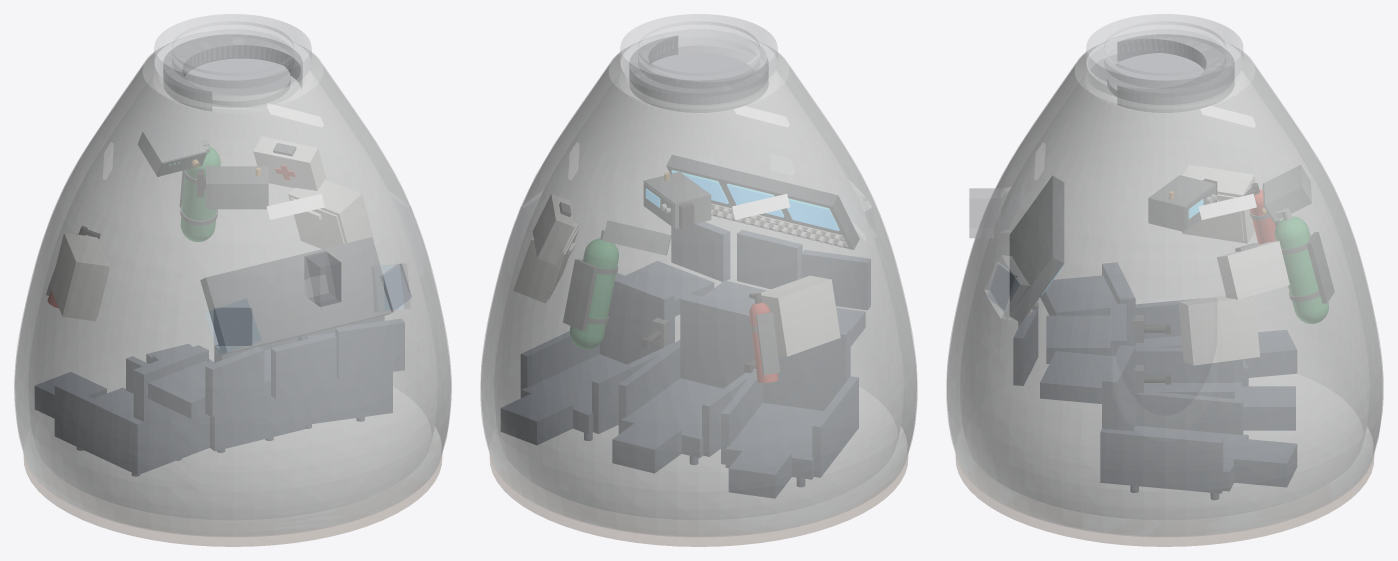
File: cmd04_soyuz_descent_combined.glb
3 views of the same model, side by side, from view 1: azimuth 30°, elevation 25°; view 2: azimuth 150°, elevation 25°; view 3: azimuth 270°, elevation 25° (orthographic).
Parts seen in each view (by area): view 1: ext_descent_hull, pressure_vessel, seat_1, main_panel, ext_hatch_ring, seat_2, stowage_lockers, seat_3, hatch_tunnel_1, ext_heat_shield, hatch_door_1, eq15_1_body (+8 smaller); view 2: pressure_vessel, ext_descent_hull, seat_2, seat_1, seat_3, ext_hatch_ring, stowage_lockers, hatch_tunnel_1, ext_heat_shield, main_panel, eq09_1_cylinder, hatch_door_1 (+9 smaller); view 3: pressure_vessel, ext_descent_hull, seat_3, ext_hatch_ring, seat_2, stowage_lockers, seat_1, hatch_tunnel_1, main_panel, ext_heat_shield, eq14_1_case, hatch_door_1 (+8 smaller).
Part boxes in pixels (left/top/right/bottom): ext_descent_hull: left=14, top=33, right=451, bottom=537; pressure_vessel: left=15, top=38, right=450, bottom=535; seat_1: left=35, top=345, right=263, bottom=476; main_panel: left=200, top=237, right=393, bottom=354; ext_hatch_ring: left=154, top=14, right=311, bottom=95; seat_2: left=146, top=333, right=336, bottom=452; stowage_lockers: left=50, top=180, right=374, bottom=320; seat_3: left=298, top=316, right=404, bottom=428; hatch_tunnel_1: left=163, top=34, right=302, bottom=111; ext_heat_shield: left=24, top=455, right=441, bottom=546; hatch_door_1: left=185, top=58, right=290, bottom=107; eq15_1_body: left=206, top=166, right=268, bottom=208; pressure_vessel: left=481, top=38, right=916, bottom=535; ext_descent_hull: left=480, top=33, right=917, bottom=537; seat_2: left=612, top=230, right=802, bottom=472; seat_1: left=721, top=250, right=870, bottom=498; seat_3: left=501, top=222, right=729, bottom=444; ext_hatch_ring: left=620, top=14, right=777, bottom=95; stowage_lockers: left=513, top=222, right=840, bottom=356; hatch_tunnel_1: left=629, top=36, right=768, bottom=112; ext_heat_shield: left=490, top=455, right=907, bottom=546; main_panel: left=666, top=155, right=859, bottom=249; eq09_1_cylinder: left=570, top=238, right=618, bottom=349; hatch_door_1: left=651, top=53, right=754, bottom=82; pressure_vessel: left=947, top=38, right=1382, bottom=535; ext_descent_hull: left=946, top=33, right=1383, bottom=537; seat_3: left=1013, top=309, right=1296, bottom=499; ext_hatch_ring: left=1086, top=14, right=1242, bottom=95; seat_2: left=1018, top=304, right=1295, bottom=430; stowage_lockers: left=1178, top=165, right=1259, bottom=365; seat_1: left=1032, top=262, right=1296, bottom=385; hatch_tunnel_1: left=1117, top=34, right=1234, bottom=112; main_panel: left=1010, top=176, right=1063, bottom=322; ext_heat_shield: left=956, top=454, right=1373, bottom=546; eq14_1_case: left=1217, top=241, right=1289, bottom=299; hatch_door_1: left=1107, top=53, right=1204, bottom=96.
Bounding box in the file's own units: 2.51 × 2.85 × 2.51.
